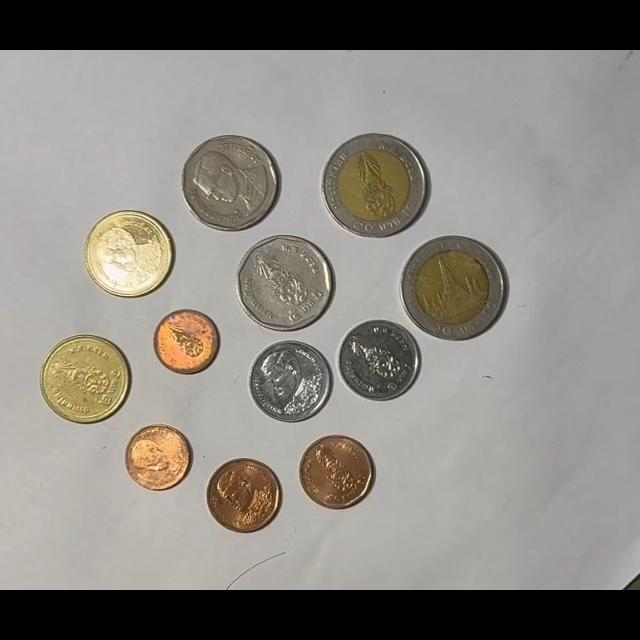1-baht: (337, 319, 421, 403), (247, 340, 331, 423)
10-baht: (401, 235, 507, 341), (321, 133, 428, 238)
2-baht: (40, 334, 131, 425), (85, 211, 173, 300)
25-satang: (124, 424, 193, 492), (154, 309, 220, 375)
5-baht: (181, 134, 281, 232), (236, 234, 334, 332)
50-satang: (206, 457, 282, 534), (299, 434, 375, 510)
